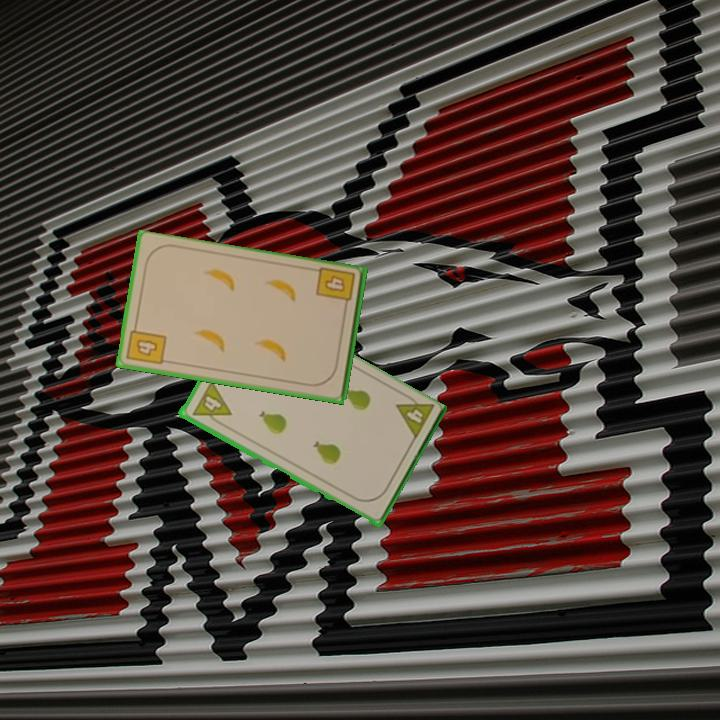4b: (123, 320, 169, 368), (313, 264, 358, 313)
4p: (392, 389, 437, 443), (188, 378, 234, 429)
